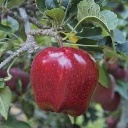apple: (29, 46, 101, 117)
